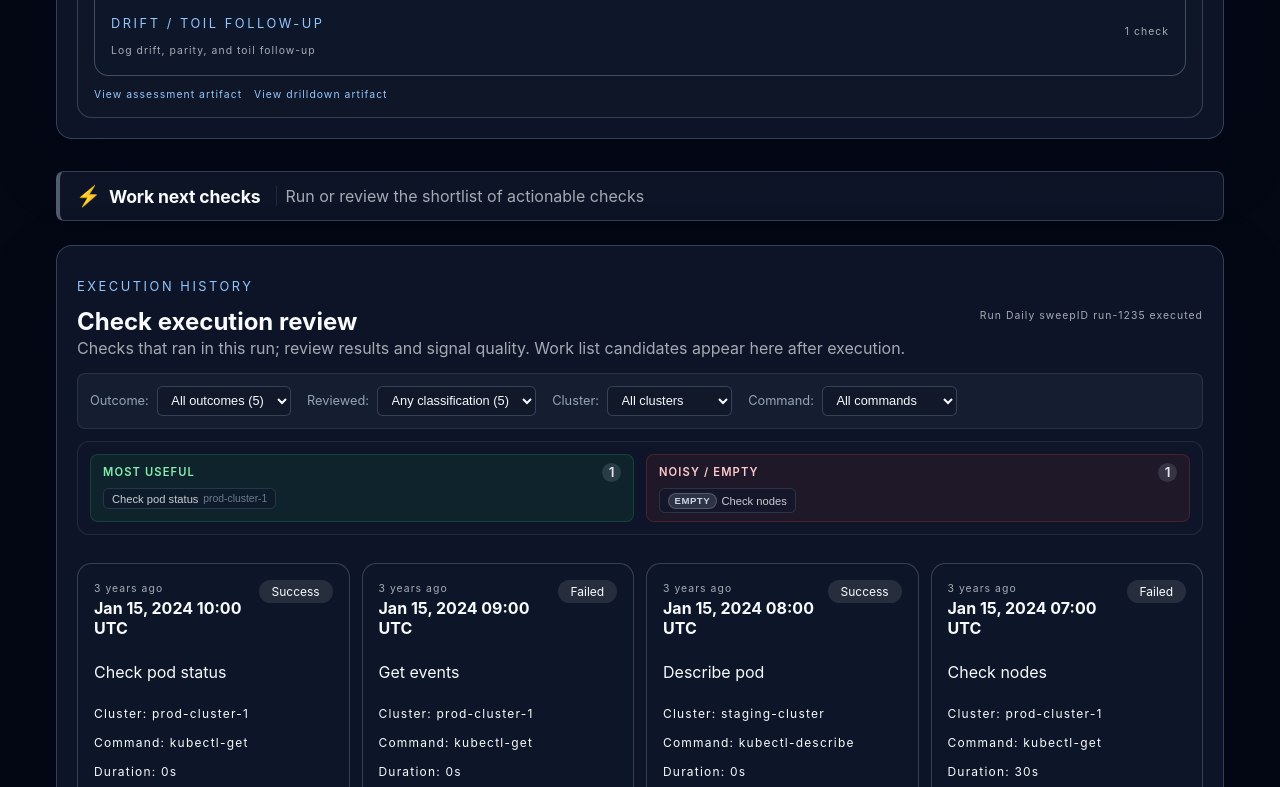
Test case: ExecutionHistoryPanel UI tests › cluster and command filter visibility › filters by cluster when selected
(page scrolled)
// Find and use the cluster filter
Select "prod-cluster-1" in the dropdown labelled "Cluster:": (670,401) [607,386,732,416]
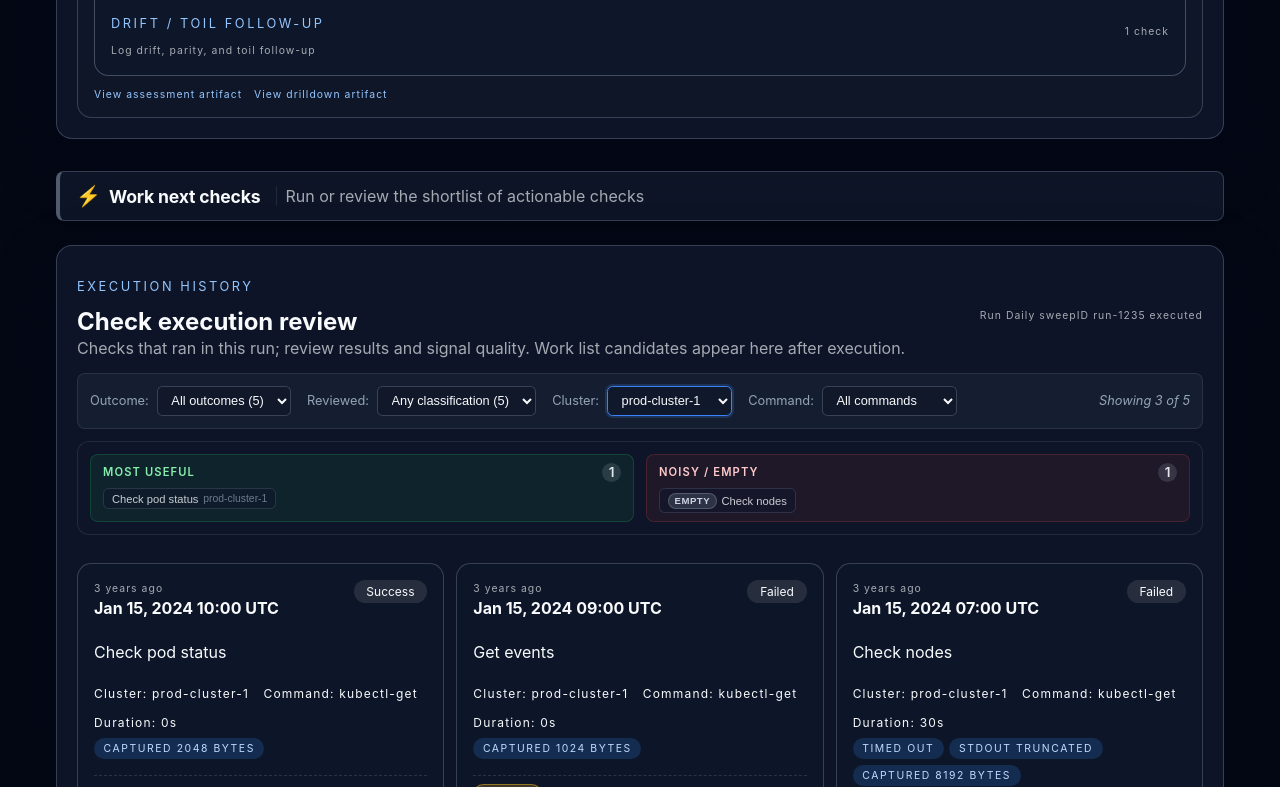
Now the text "Showing 3 of 5" is shown, box [1099,393,1190,408]
